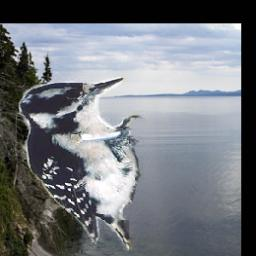Woodpecker: (19, 78, 145, 252)
